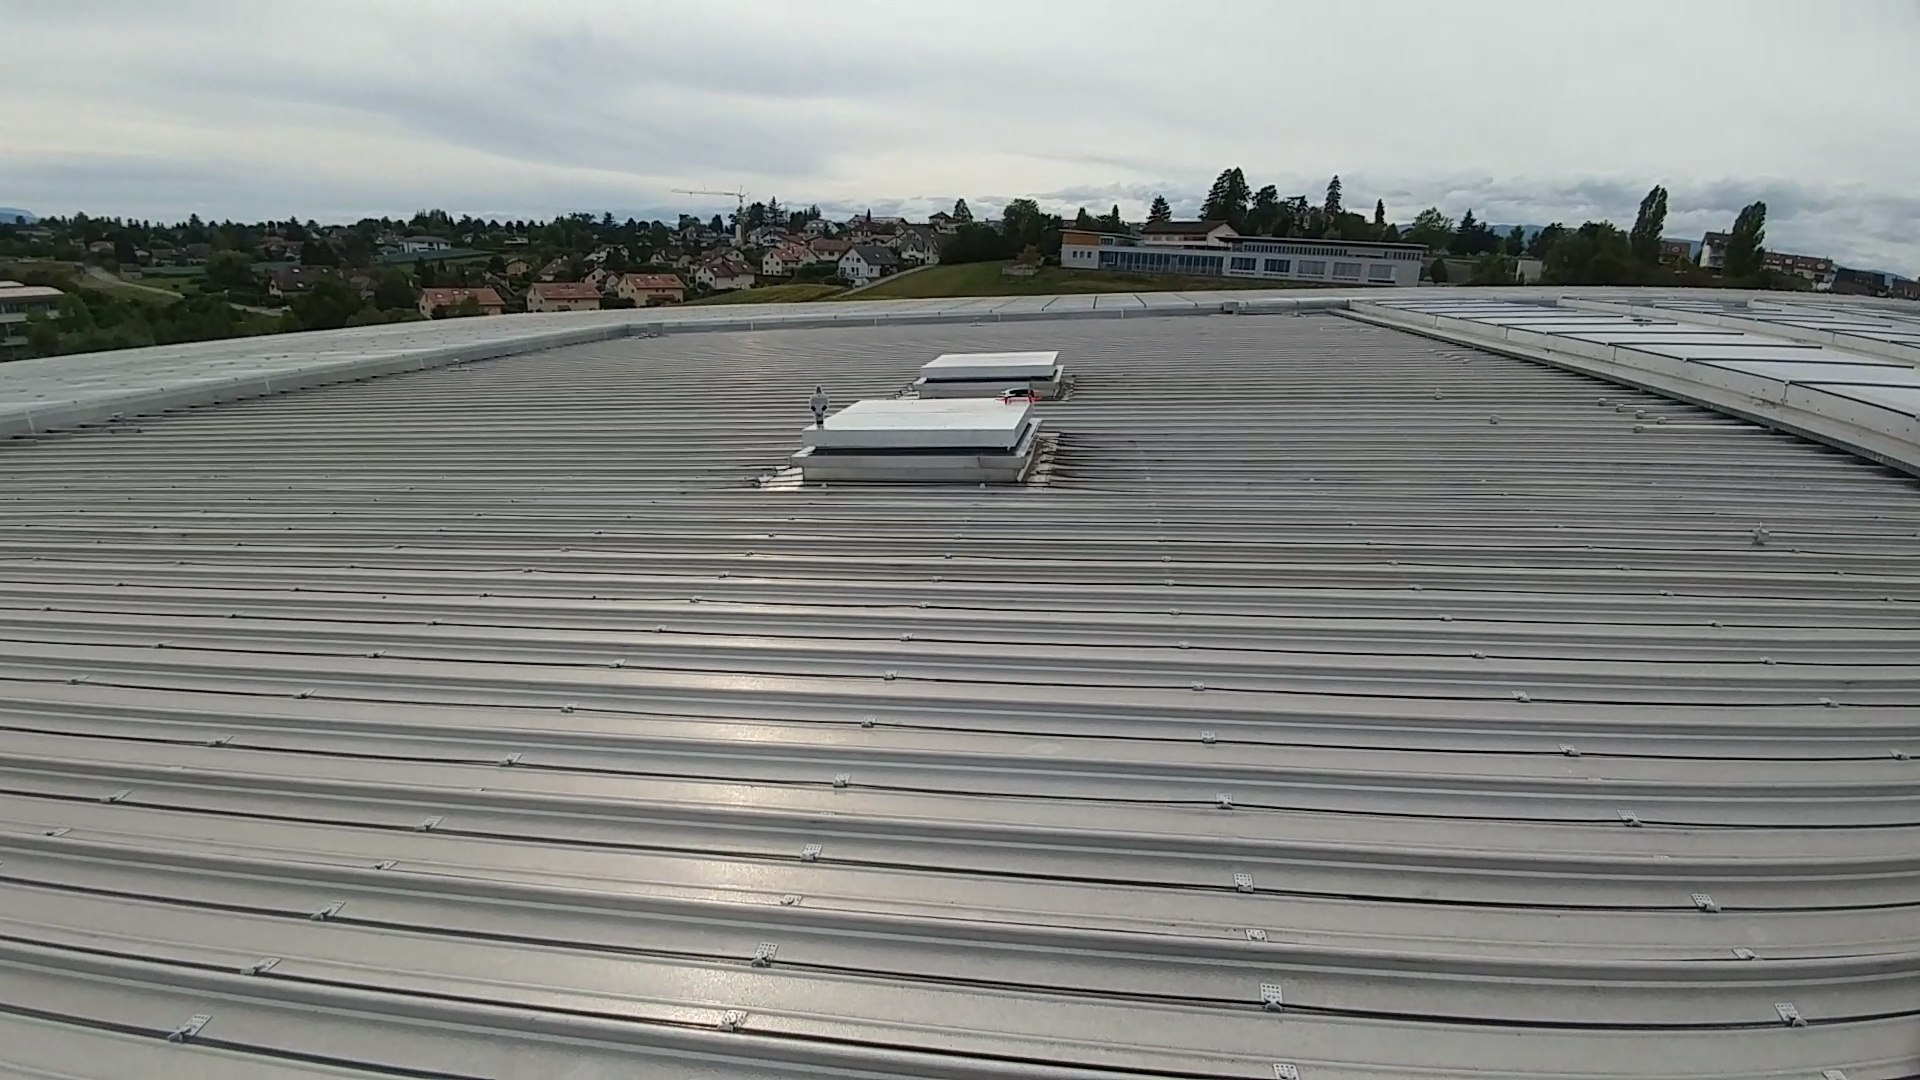Pigeon: (804, 384, 833, 425)
